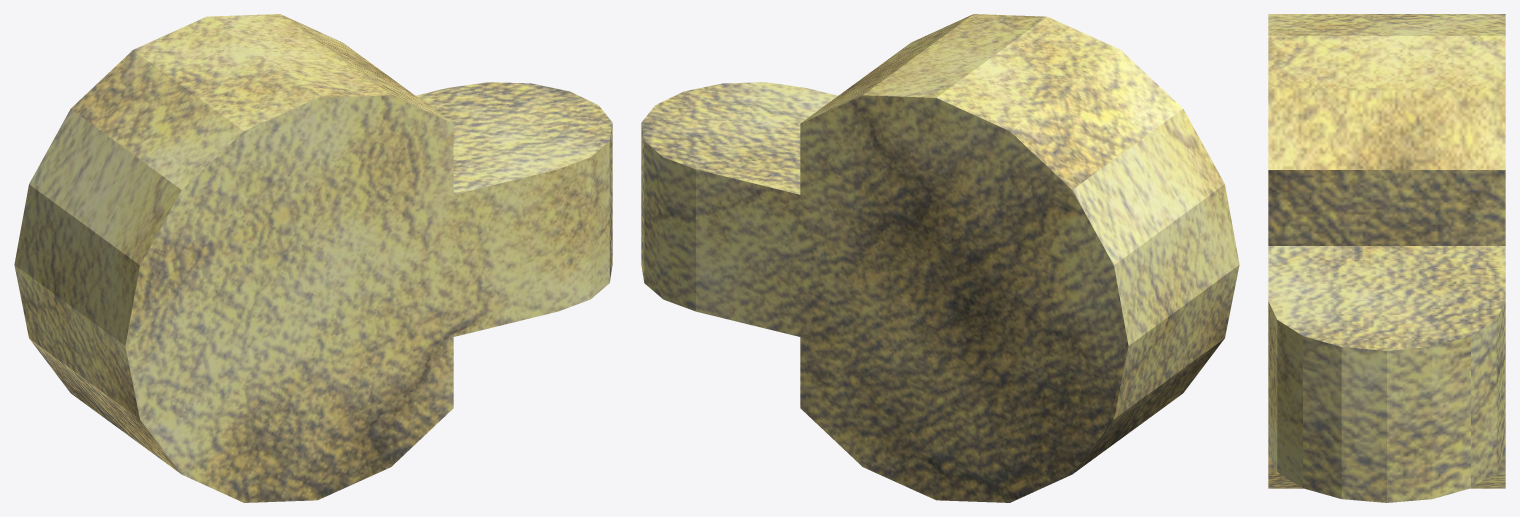
Rendered from sternum_back.dae.
3 renders of one model, left to right at view 1: azimuth 30°, elevation 25°; view 2: azimuth 150°, elevation 25°; view 3: azimuth 270°, elevation 25°, orthographic. The views are drawn at different scales.
Parts seen in each view (by area): view 1: Body_Center_Back; view 2: Body_Center_Back; view 3: Body_Center_Back.
Boxes of the visible parts, x1,y1,x2,y2 form: Body_Center_Back: (14, 14, 612, 502); Body_Center_Back: (641, 14, 1239, 502); Body_Center_Back: (1268, 14, 1505, 502).
Bounding box in the file's own units: 0.44 × 0.16 × 0.32.
Materials: 1 (1 with a texture image).
